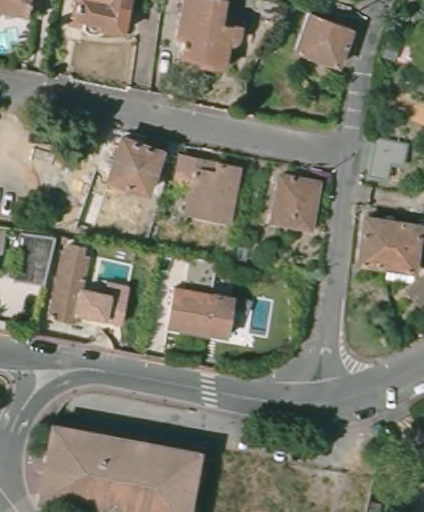pool: (86, 253, 139, 291), (245, 297, 275, 342), (1, 25, 29, 60)
